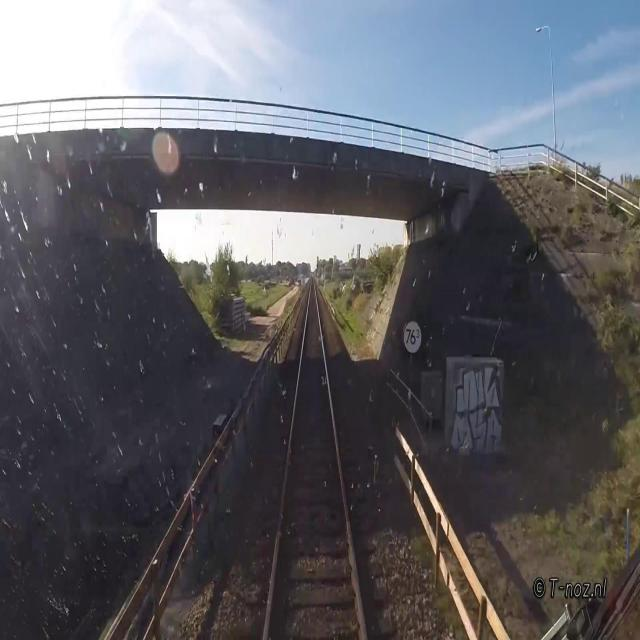rail-track: (268, 281, 363, 639)
